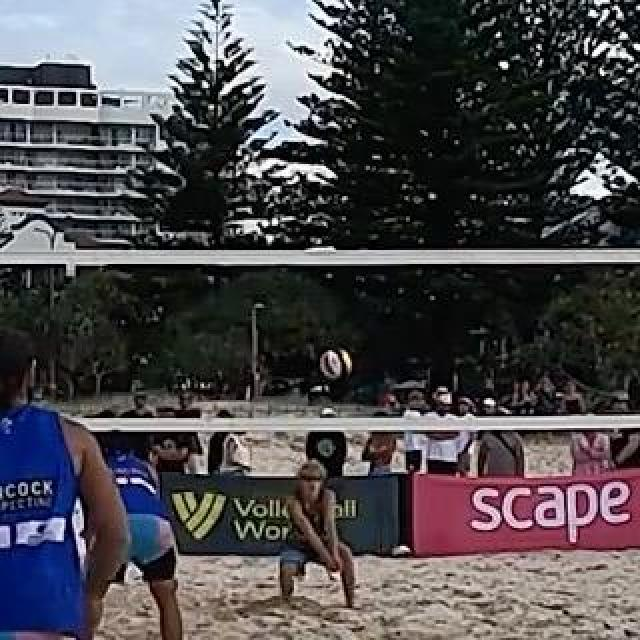volleyball: (322, 347, 354, 377)
